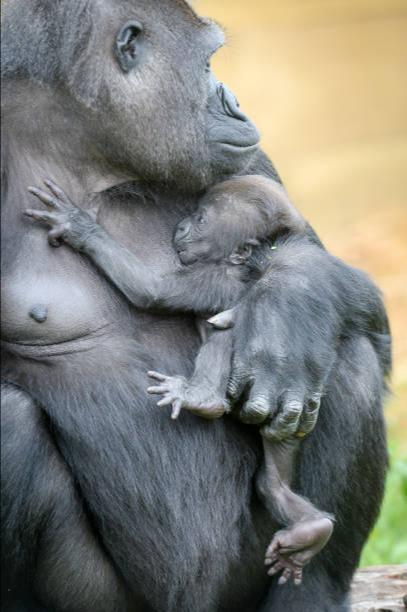gorille_Autres: (5, 0, 407, 612)
